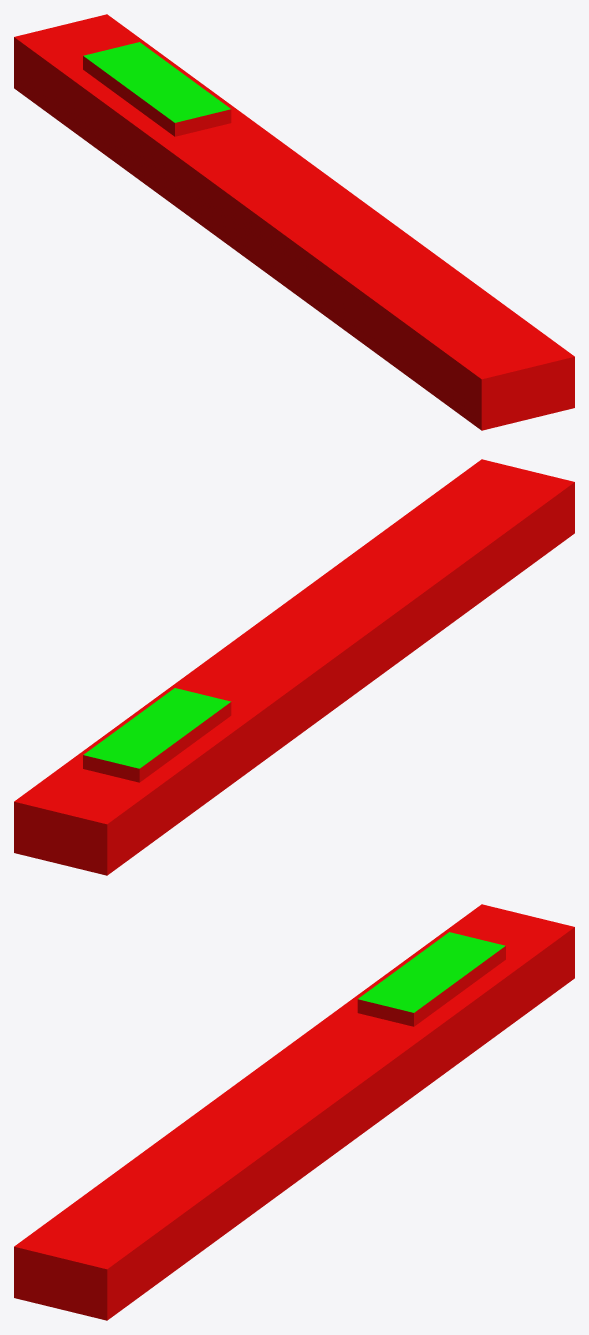
The model's file is labeled.obj.
3 views of the same model, one above another, from view 1: azimuth 30°, elevation 25°; view 2: azimuth 150°, elevation 25°; view 3: azimuth 330°, elevation 25° (orthographic).
Bounding box in the file's own units: 0.0176 × 0.0118 × 0.1534.
